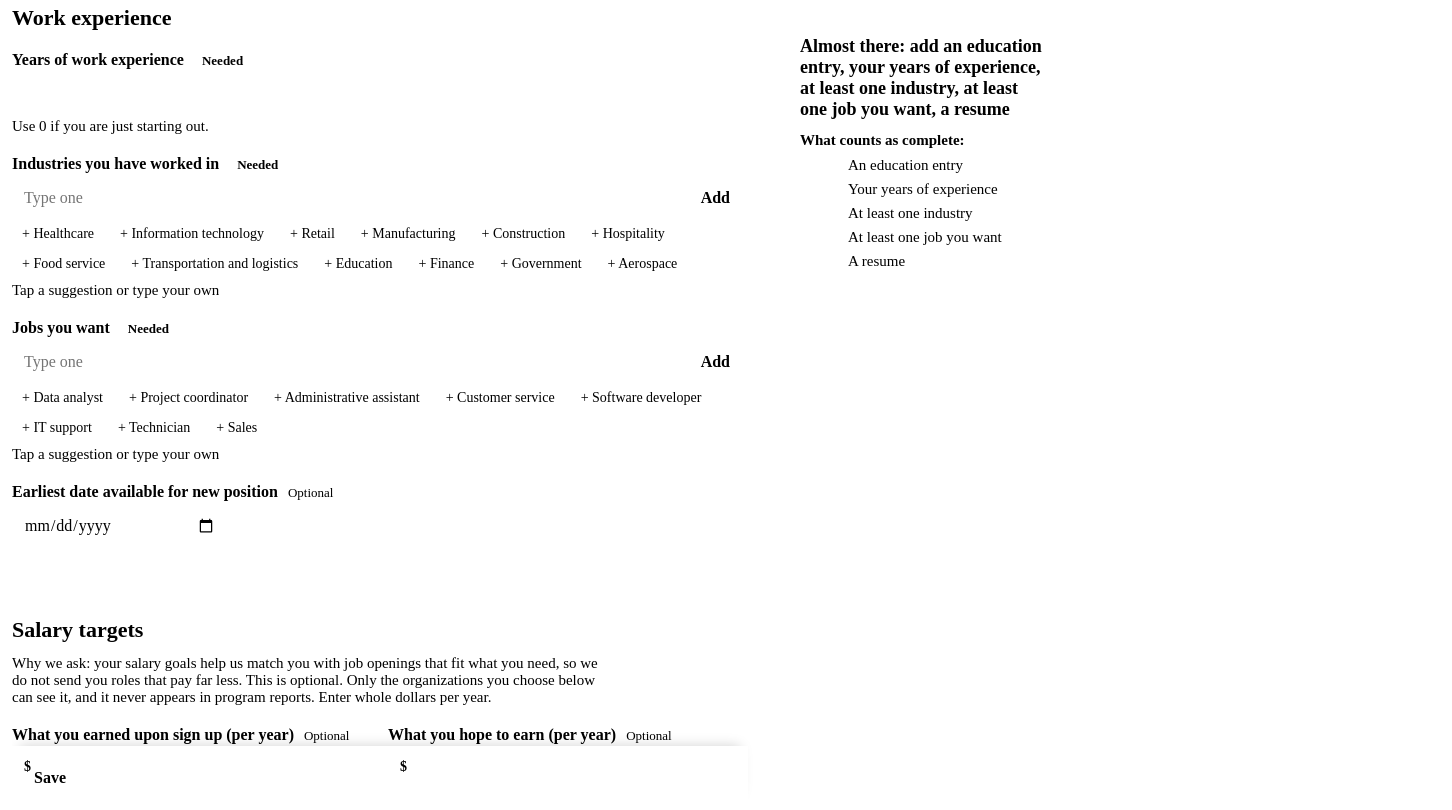
Test: the profile form › has an Add button for typed items, and the Enter key hint is done
(page scrolled)
In the field named "Add to jobs you want": (343, 362) 12,344 -> 675,380, type "Welder"
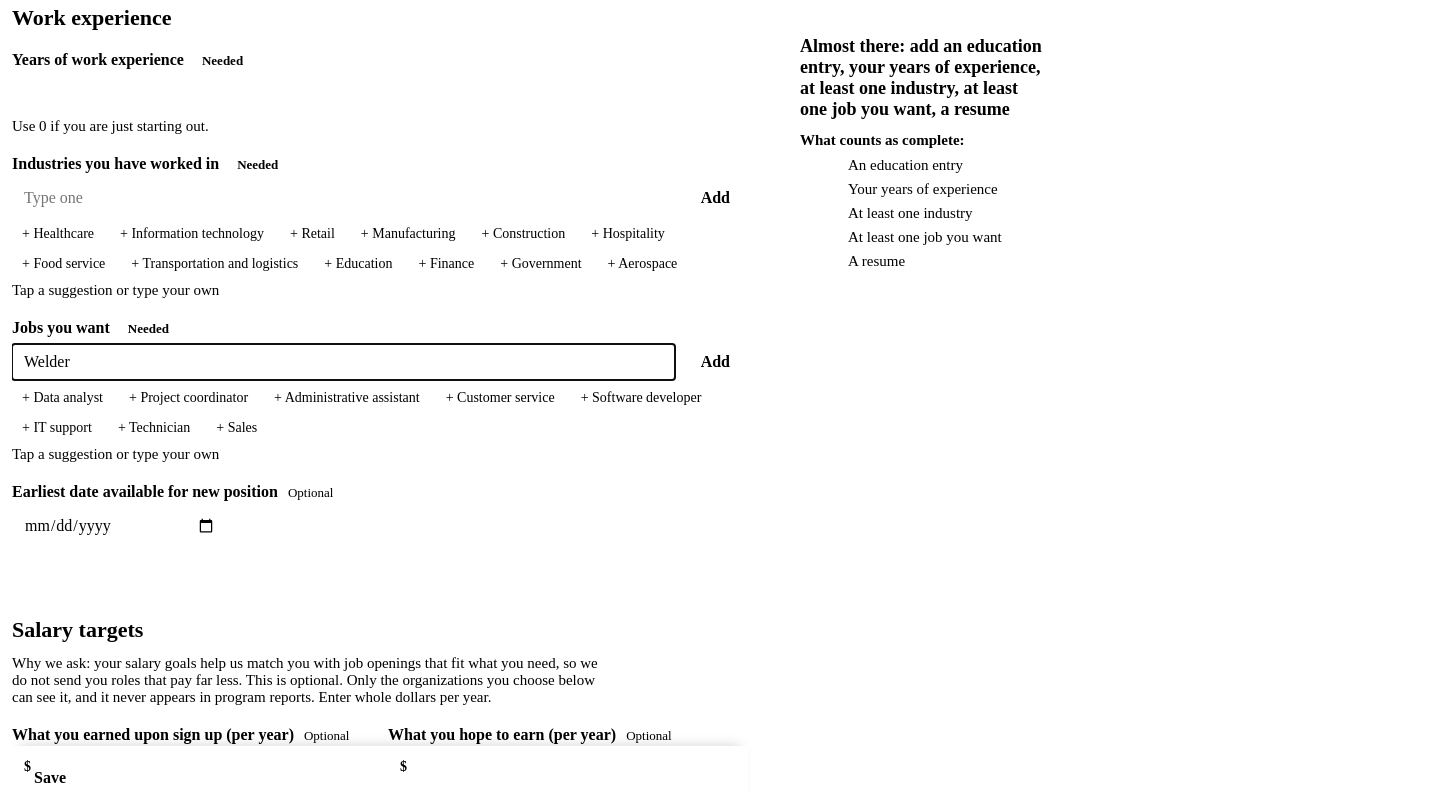
Click the button with aria-label "Add typed item to jobs you want": click(715, 362) 683,344 -> 748,380
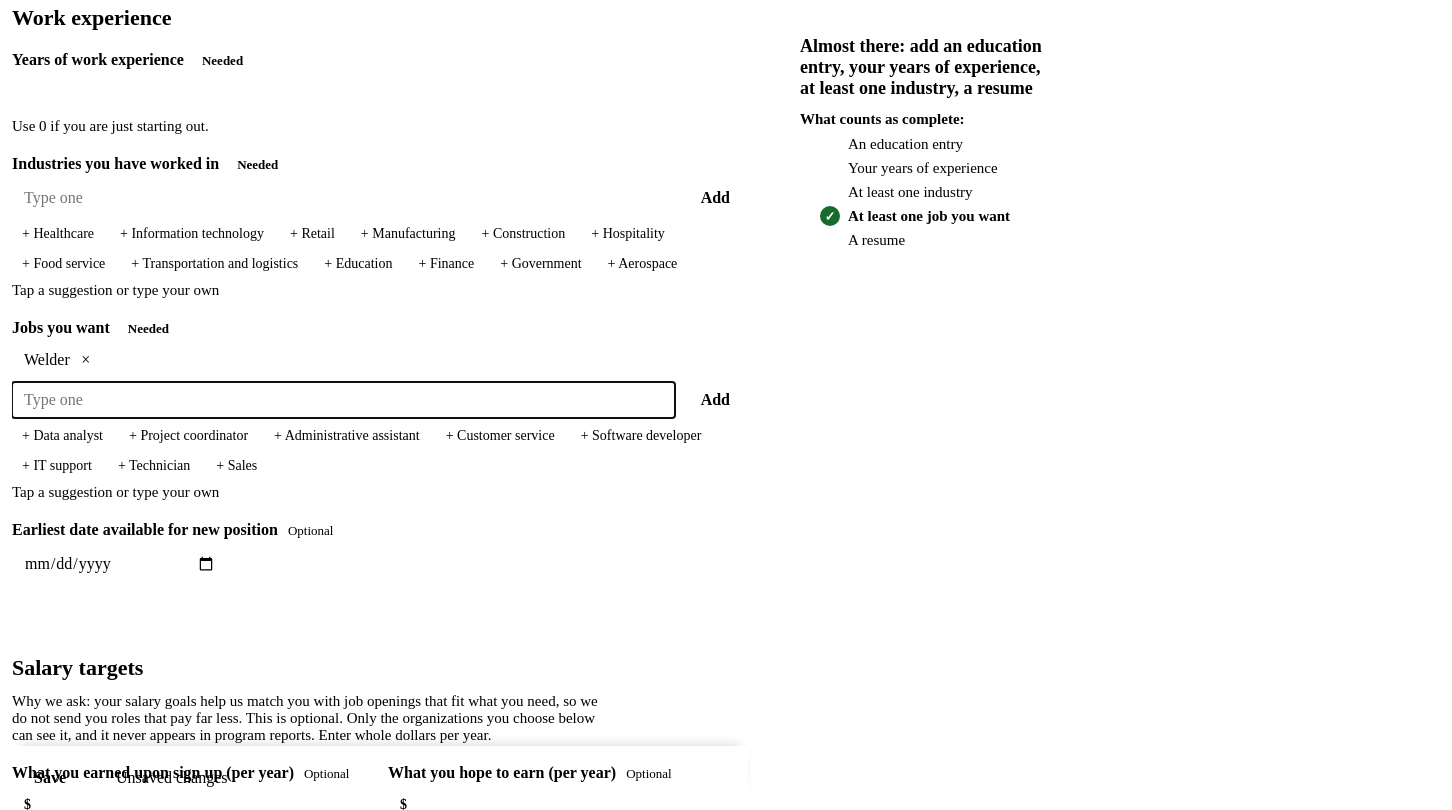
Result: the button named "Remove Welder" is shown at 72,346 -> 100,374
Result: the field named "Add to jobs you want" is empty at 12,382 -> 675,418
